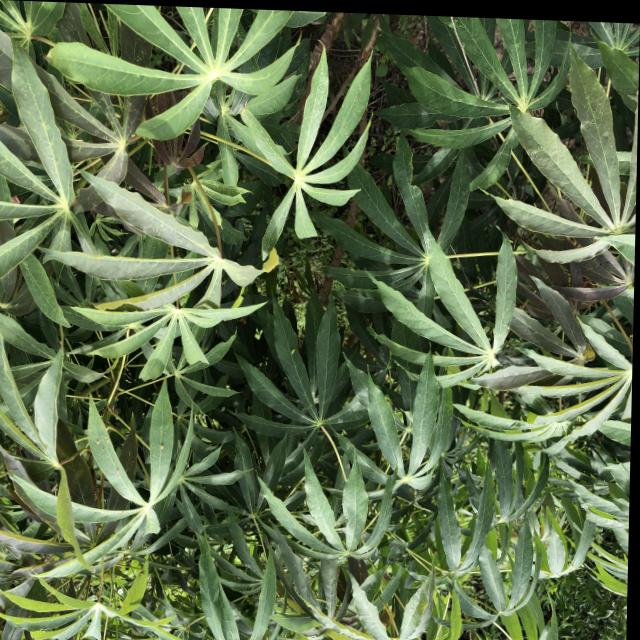Mosca: (90, 433, 106, 448), (155, 439, 169, 453), (285, 344, 297, 356)
